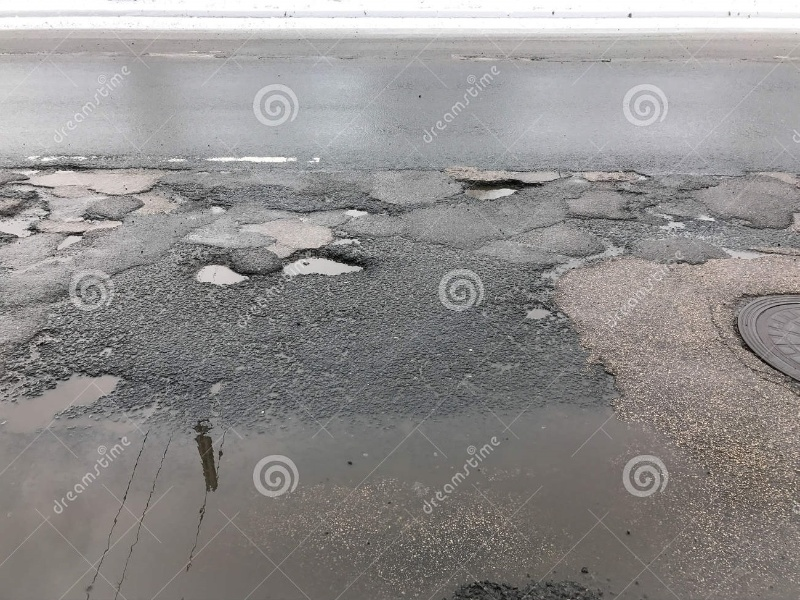pothole: (1, 153, 186, 242), (275, 248, 372, 280), (448, 173, 543, 205), (190, 260, 254, 290)
